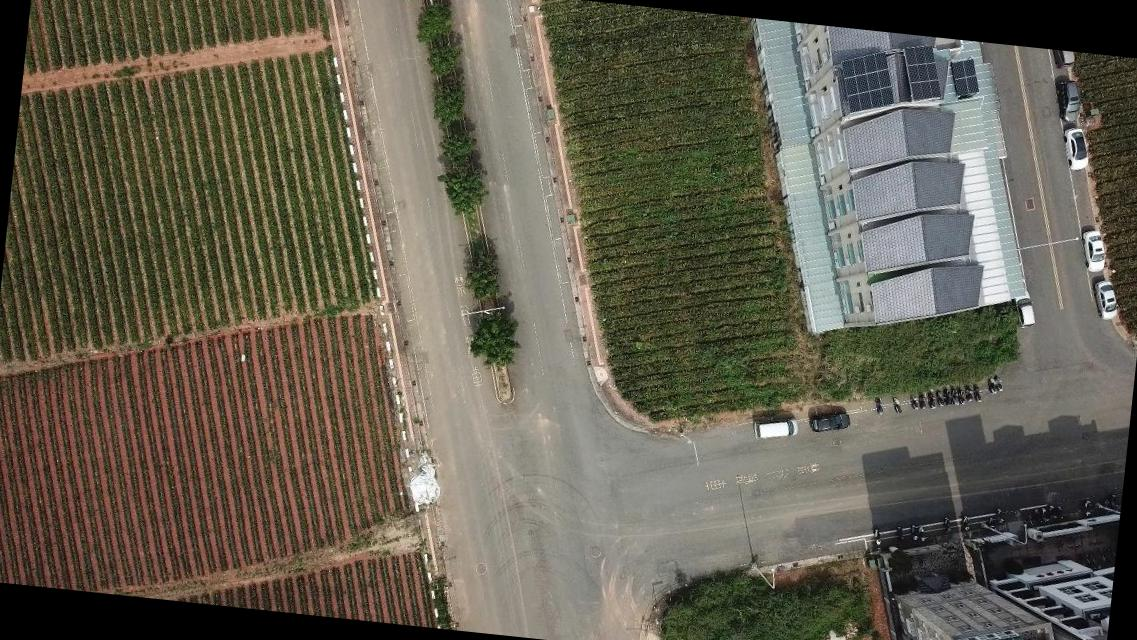vehicle: (1058, 126, 1092, 172), (1076, 227, 1109, 273), (751, 414, 798, 444), (1054, 78, 1084, 124), (810, 407, 853, 435), (1092, 280, 1121, 321), (1012, 290, 1038, 328), (1050, 50, 1077, 73)
